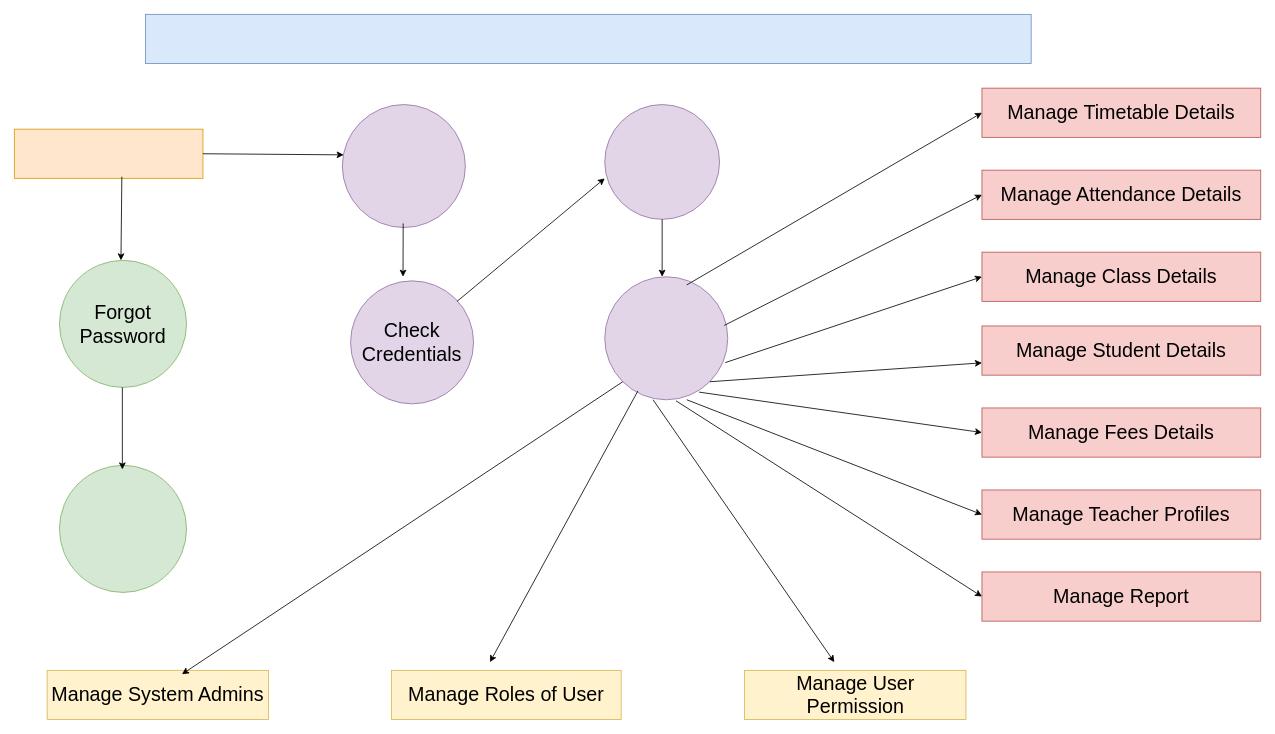
Some shapes in this 1275 by 734 pixel diagram are drawn without their labels. Each missing label, with the centre of its shape:
"Admin" goes at (108,153).
"Check Roles of Access" goes at (662,161).
"Login to System" goes at (403,166).
"Manage Modules" goes at (666,338).
"Send Email to User" goes at (123,528).
"Student Information Systrm" goes at (588,39).
